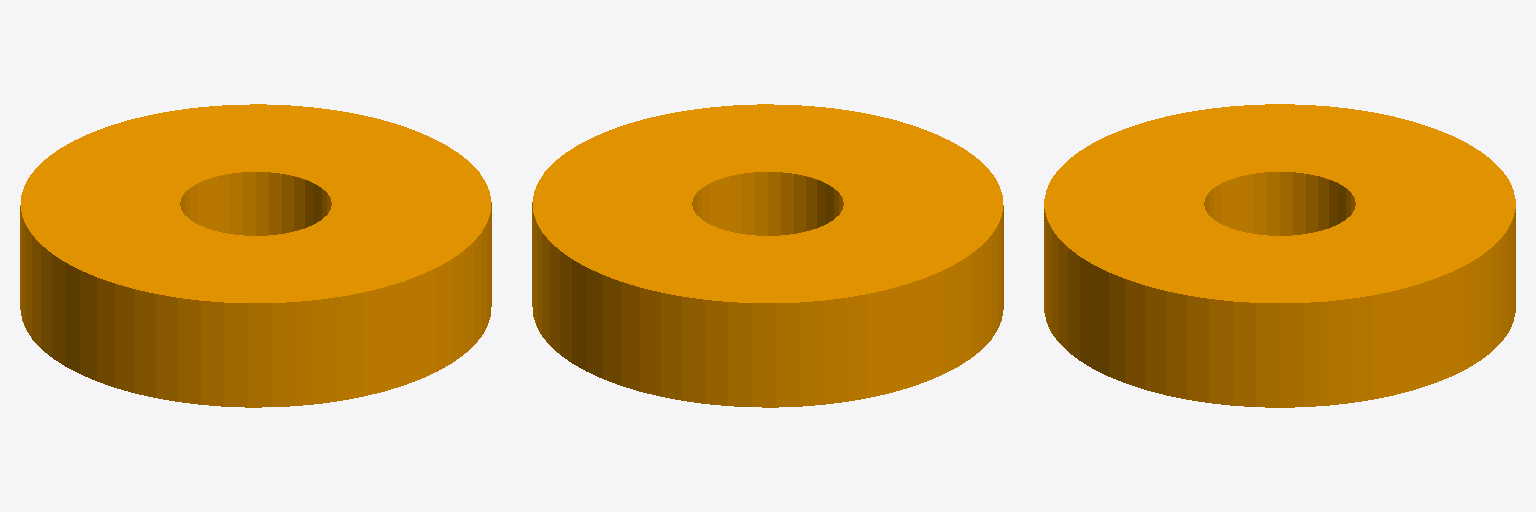
The robot description file, URDF, robot "token_d295":
<?xml version="1.0"?>
<robot name="token_d295">

    <material name="orange">
        <color rgba="1 0.65 0 1"/>
    </material>

    <link name="token_d295_link">
        <inertial>
            <origin xyz="0 0 0.0036"/>
            <mass value="0.2" />
            <inertia  ixx="0.000012229" ixy="0.0"  ixz="0.0"  iyy="0.000012229"  iyz="0.0"  izz="0.000023050" />
        </inertial>
        <visual>
            <origin rpy="0 0 0" xyz="0 0 0"/>
            <geometry>
                <mesh filename="package://edo_games/meshes/towers_of_hanoi/token-29.5.STL" />
            </geometry>
            <material name="orange"/>
        </visual>
        <collision>
            <origin rpy="0 0 0" xyz="0 0 0"/>
            <geometry>
                <mesh filename="package://edo_games/meshes/towers_of_hanoi/token-29.5.STL" />
            </geometry>
        </collision>
    </link>
    <gazebo reference="token_d295_link">
        <dampingFactor>0.5</dampingFactor>
        <material>Gazebo/Orange</material>
    </gazebo>

</robot>

--- What the picture shows (computed from the rendered views, not written in the file) ---
The picture shows the robot from 3 angles, left to right: view 1: azimuth 30°, elevation 25°; view 2: azimuth 150°, elevation 25°; view 3: azimuth 270°, elevation 25°; orthographic projection.
Robot: token_d295 — 1 links, 0 joints (none); root link token_d295_link; default pose: every joint at zero.
Visible links, largest first — view 1: token_d295_link; view 2: token_d295_link; view 3: token_d295_link.
Link boxes in pixels (x1,y1,x2,y2): token_d295_link: [20, 104, 491, 407]; token_d295_link: [532, 104, 1003, 407]; token_d295_link: [1044, 104, 1515, 407].
Bounding box of the posed robot: 0.0295 × 0.0295 × 0.0072 m (x, y, z).
1 mesh visuals loaded from 1 distinct referenced files (1 binary STL).